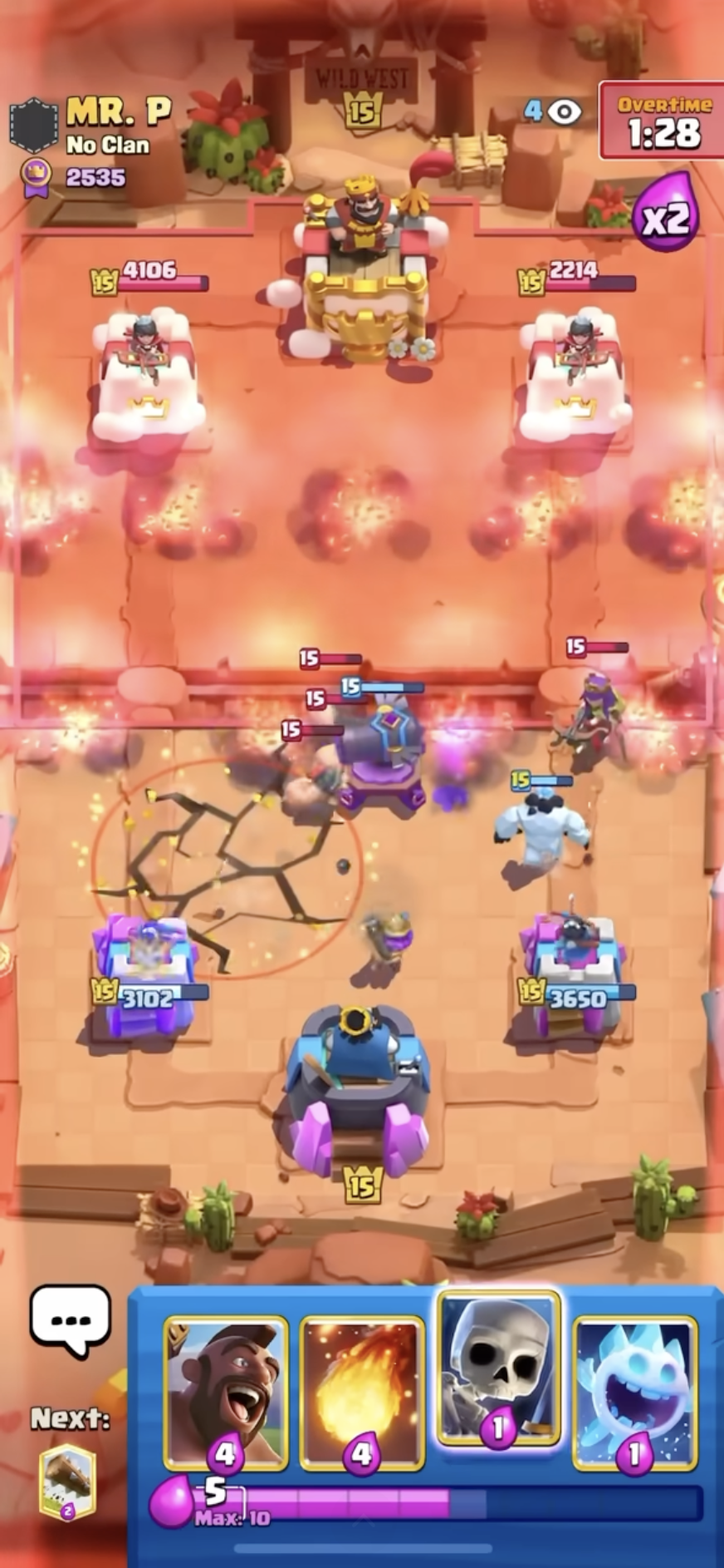evo-cannon: (332, 665, 435, 818)
ice-golem: (490, 751, 601, 909)
musketeer: (357, 879, 424, 995)
